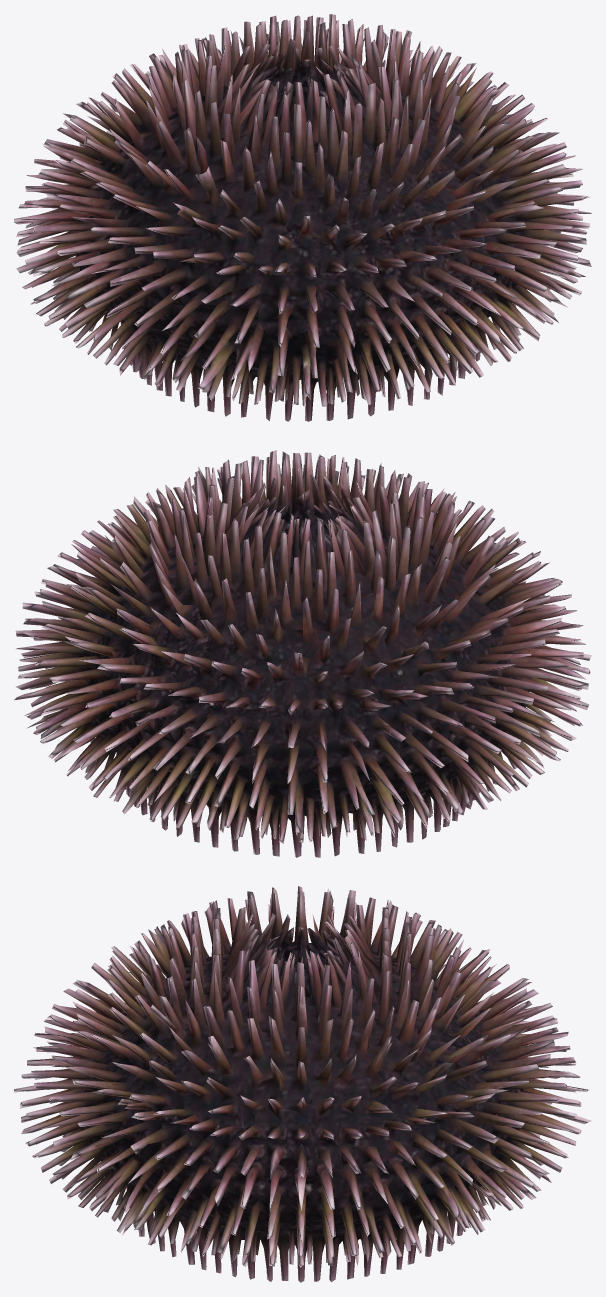
File: urchin.glb
3 renders of one model, top to bottom at view 1: azimuth 30°, elevation 25°; view 2: azimuth 150°, elevation 25°; view 3: azimuth 270°, elevation 25°, orthographic. The views are drawn at different scales.
Visible parts, largest first — view 1: tripo_node_a8045a0f-85d7-4567-a995-62c9f4fcac7b; view 2: tripo_node_a8045a0f-85d7-4567-a995-62c9f4fcac7b; view 3: tripo_node_a8045a0f-85d7-4567-a995-62c9f4fcac7b.
Boxes of the visible parts, box(x1,y1,x2,y2) form: tripo_node_a8045a0f-85d7-4567-a995-62c9f4fcac7b: box(14, 14, 591, 421); tripo_node_a8045a0f-85d7-4567-a995-62c9f4fcac7b: box(14, 450, 591, 857); tripo_node_a8045a0f-85d7-4567-a995-62c9f4fcac7b: box(14, 886, 591, 1282).
Bounding box in the file's own units: 0.9905 × 0.541 × 1.
Materials: 1 (1 with a texture image).
